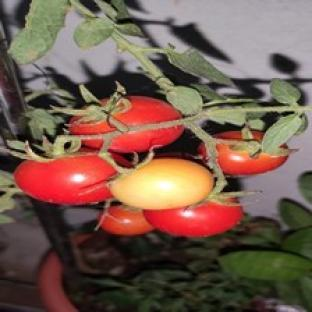Tomato: (14, 154, 116, 204), (111, 158, 213, 208), (144, 200, 243, 236), (215, 131, 288, 175), (112, 97, 182, 126), (99, 205, 154, 235)
